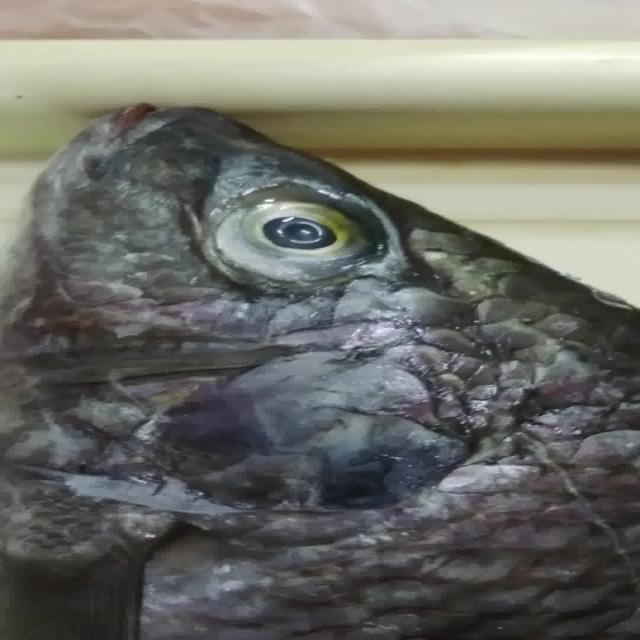Non-Fresh: (186, 161, 395, 309)
